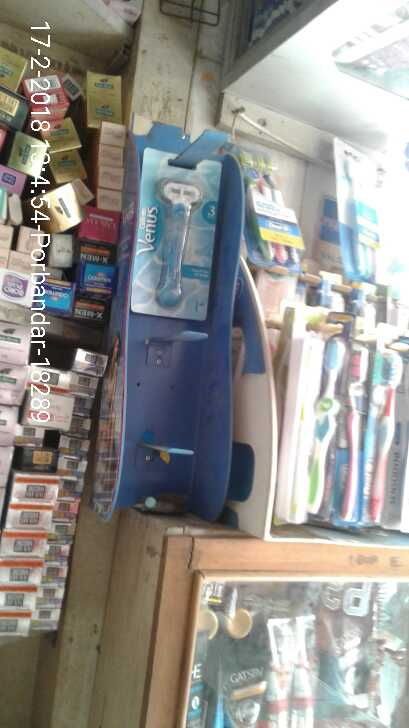beauty: (135, 151, 224, 319)
pharmacy: (236, 158, 308, 273), (311, 326, 343, 520), (340, 330, 363, 523)
